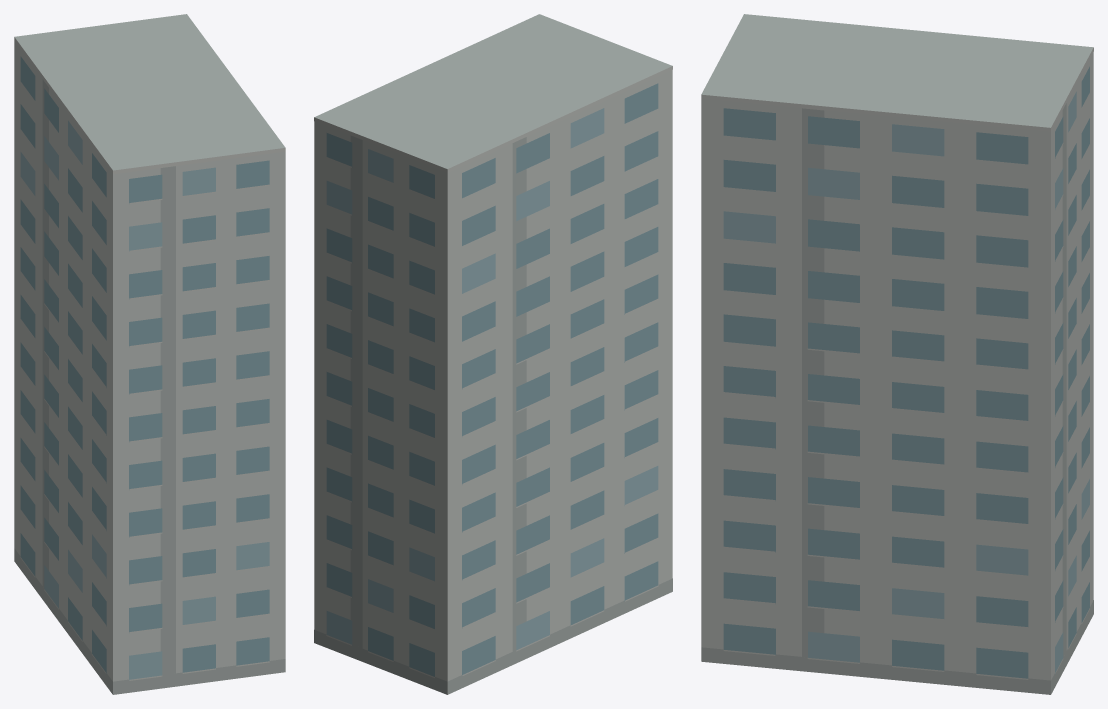
Rendered from residential-7a6668aa-c632-4c2e-b4bc-3dbc1d419ae7.glb.
The picture shows the model from 3 angles, left to right: view 1: azimuth 30°, elevation 25°; view 2: azimuth 150°, elevation 25°; view 3: azimuth 270°, elevation 25°; orthographic projection. The views are drawn at different scales.
Visible parts, largest first — view 1: residential-7a6668aa-c632-4c2e-b4bc-3dbc1d419ae7.tmp; view 2: residential-7a6668aa-c632-4c2e-b4bc-3dbc1d419ae7.tmp; view 3: residential-7a6668aa-c632-4c2e-b4bc-3dbc1d419ae7.tmp.
Boxes of the visible parts, x1,y1,x2,y2 form: residential-7a6668aa-c632-4c2e-b4bc-3dbc1d419ae7.tmp: (14,14,285,694); residential-7a6668aa-c632-4c2e-b4bc-3dbc1d419ae7.tmp: (314,14,672,694); residential-7a6668aa-c632-4c2e-b4bc-3dbc1d419ae7.tmp: (701,14,1093,694).
Bounding box in the file's own units: 14.22 × 33 × 20.72.
